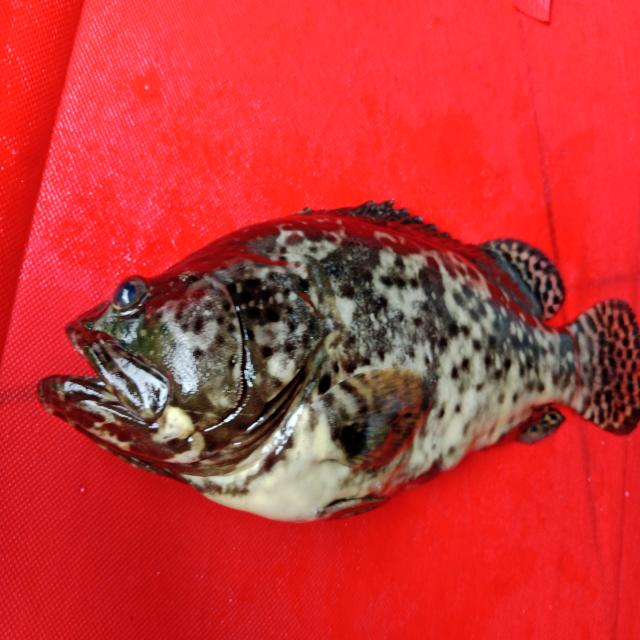ikan: (16, 160, 635, 530)
